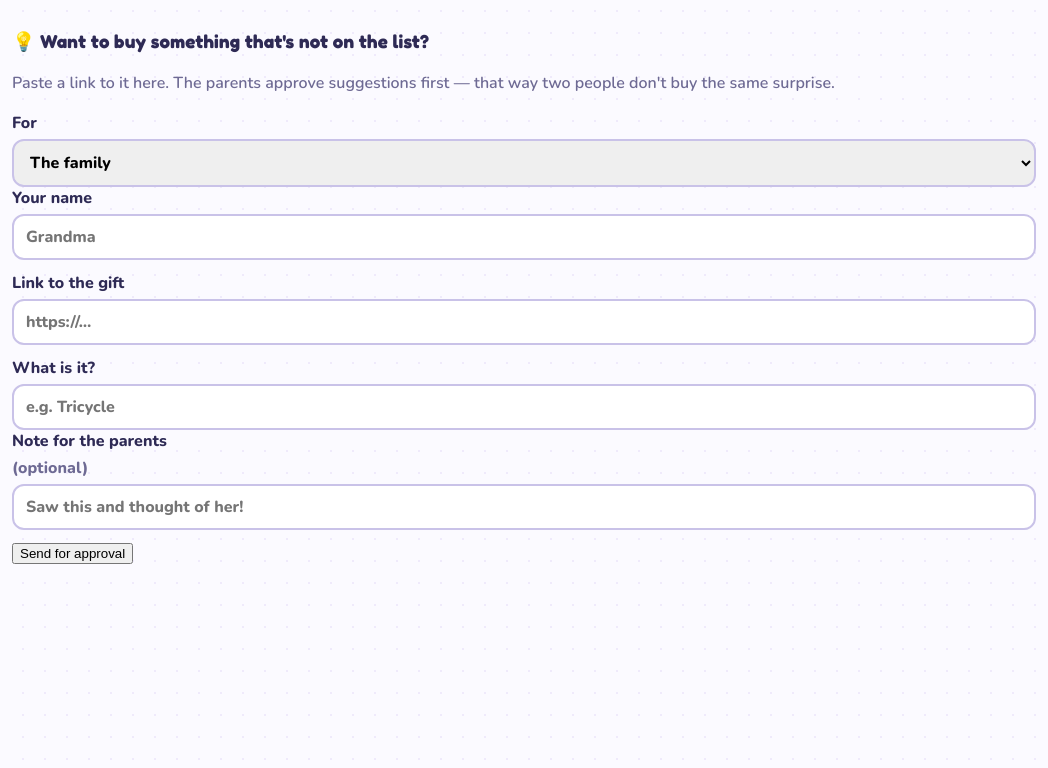
Test case: SuggestGift › reports an already-approved duplicate instead of sending another
Type "https://shop.example.com/trike" into the field labelled "Link to the gift" at (524, 322), box [12,299,1036,345]
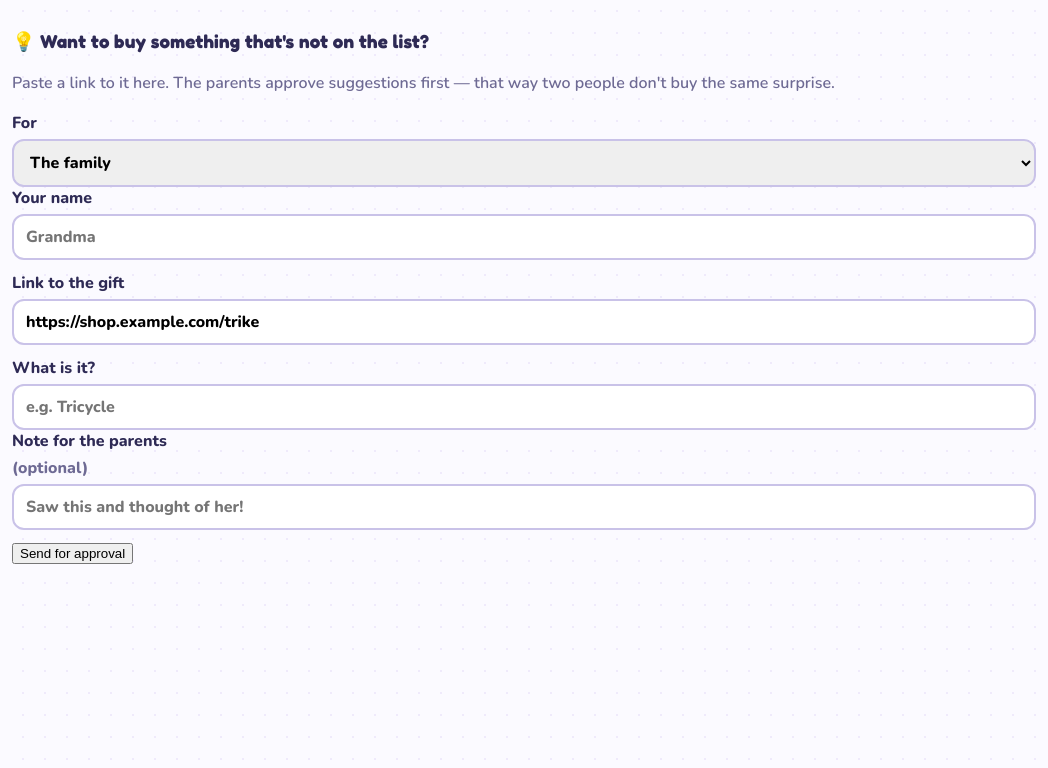
Click the button "Send for approval" at (73, 553), box [12,543,133,564]
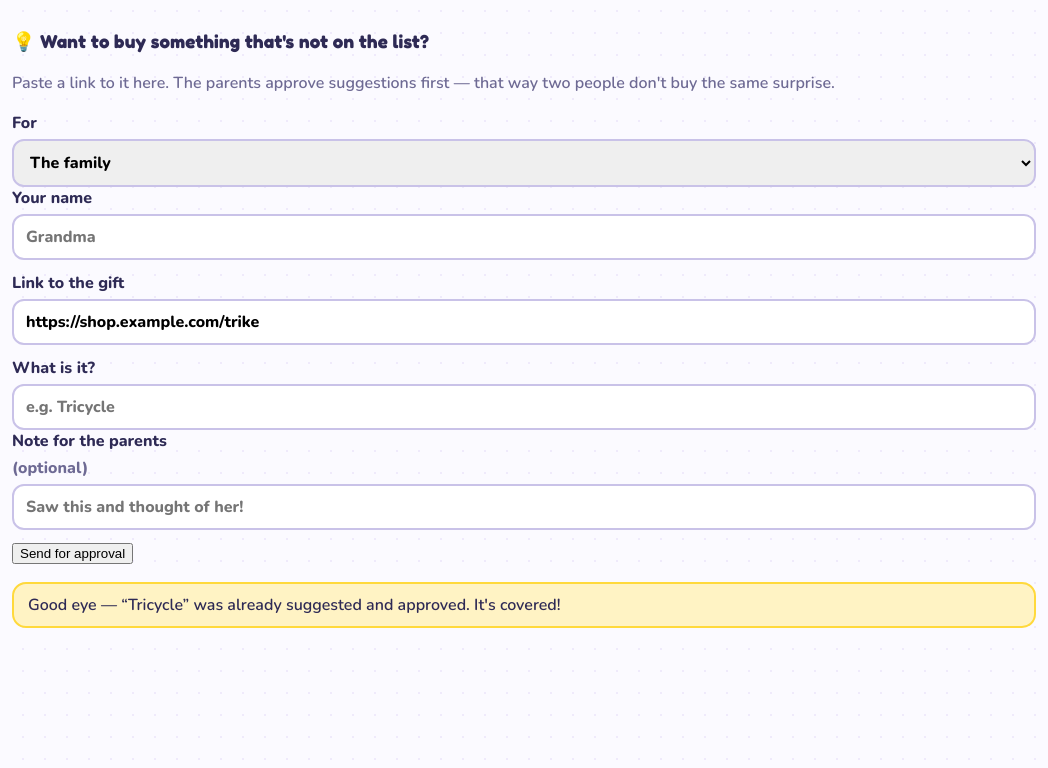
Check: the text "already suggested and approved" is shown, box [28,594,561,616]
